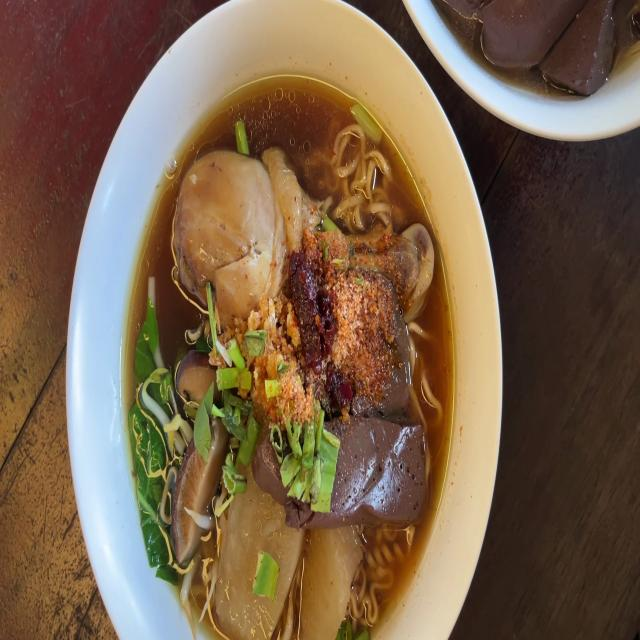noodle: (445, 0, 640, 86), (329, 418, 428, 518)
